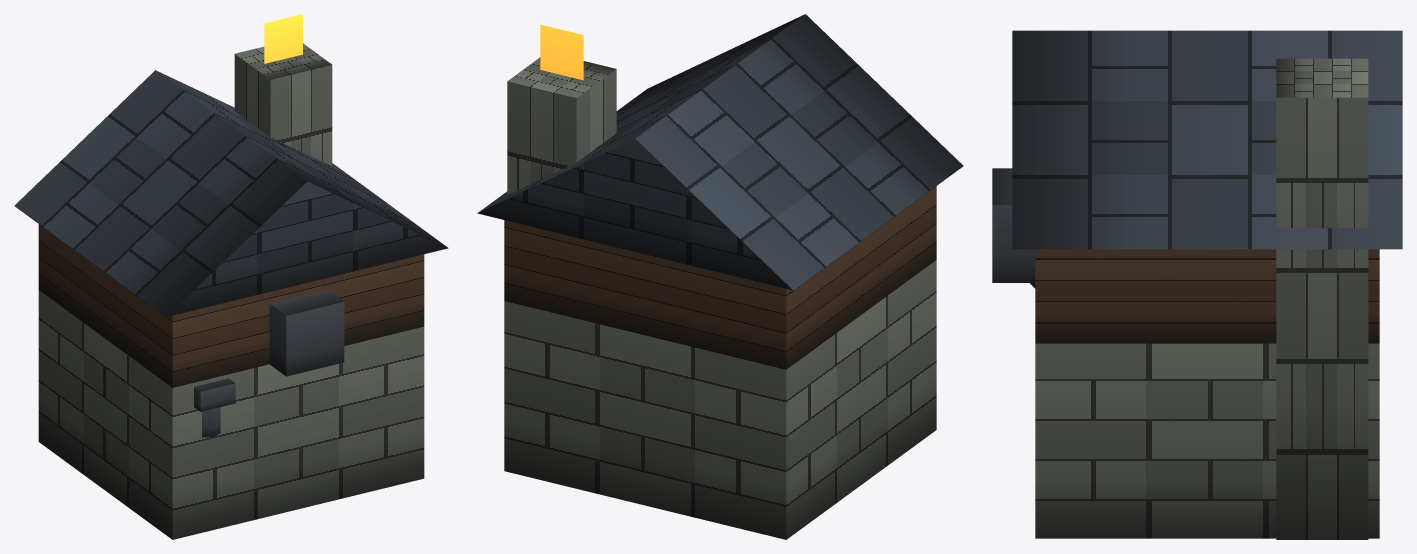
File: blacksmith.glb
3 views of the same model, side by side, from view 1: azimuth 30°, elevation 25°; view 2: azimuth 150°, elevation 25°; view 3: azimuth 270°, elevation 25° (orthographic). The views are drawn at different scales.
Parts seen in each view (by area): view 1: blacksmith; view 2: blacksmith; view 3: blacksmith.
Boxes of the visible parts, x1,y1,x2,y2 form: blacksmith: (14, 14, 448, 539); blacksmith: (477, 14, 963, 539); blacksmith: (992, 30, 1402, 539).
Bounding box in the file's own units: 1.46 × 1.9 × 1.43.
Materials: 1 (1 with a texture image).
